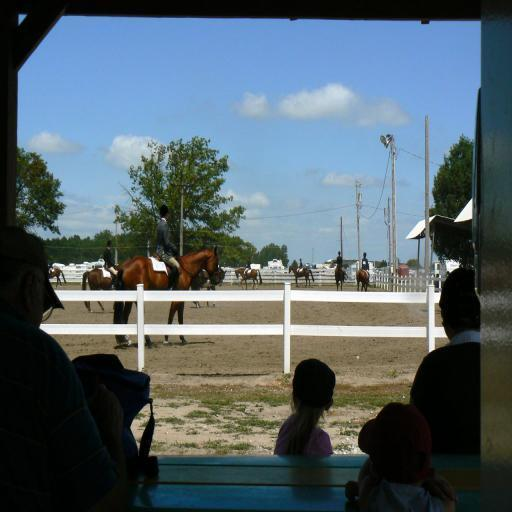horse: (113, 246, 219, 349), (81, 268, 117, 314), (189, 268, 226, 308), (235, 270, 263, 292), (288, 267, 315, 289), (355, 264, 370, 292), (48, 270, 66, 290), (334, 266, 347, 291)
